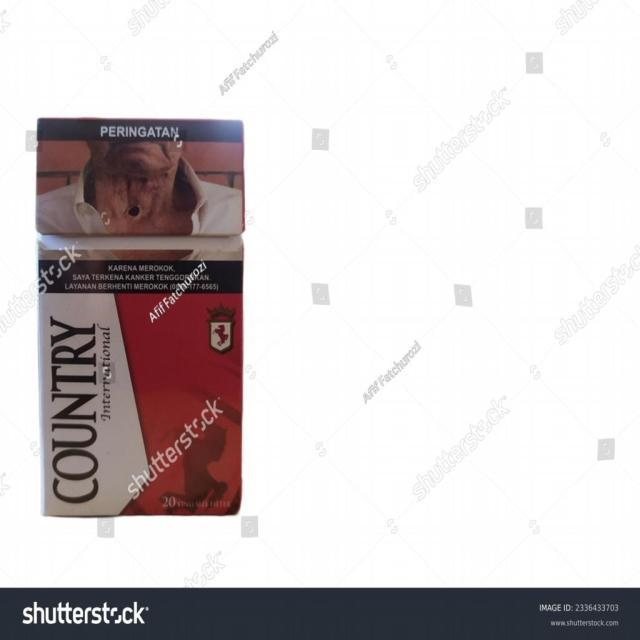smoking: (32, 117, 245, 518)
